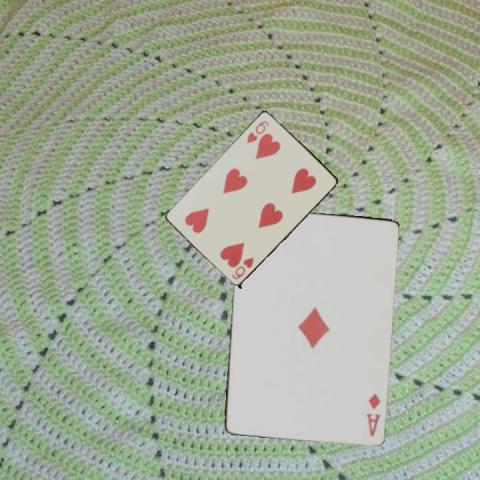6h: (243, 117, 270, 145), (229, 254, 255, 281)
Ad: (363, 390, 381, 438)
